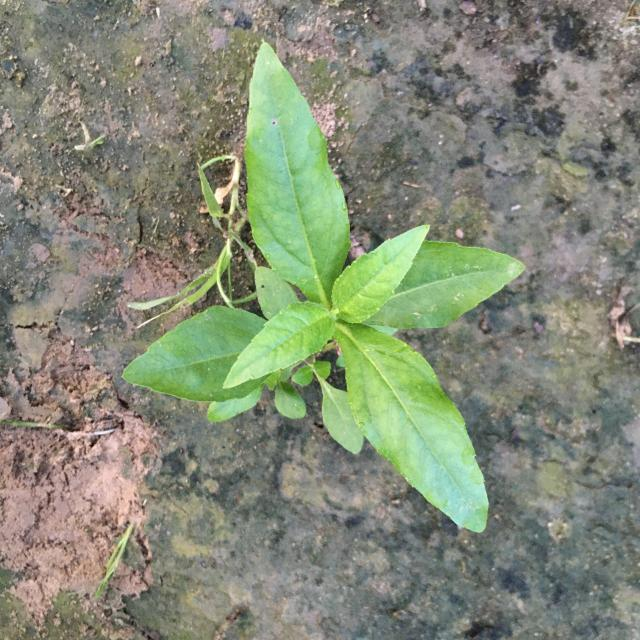Eclipta: (120, 42, 526, 533)
